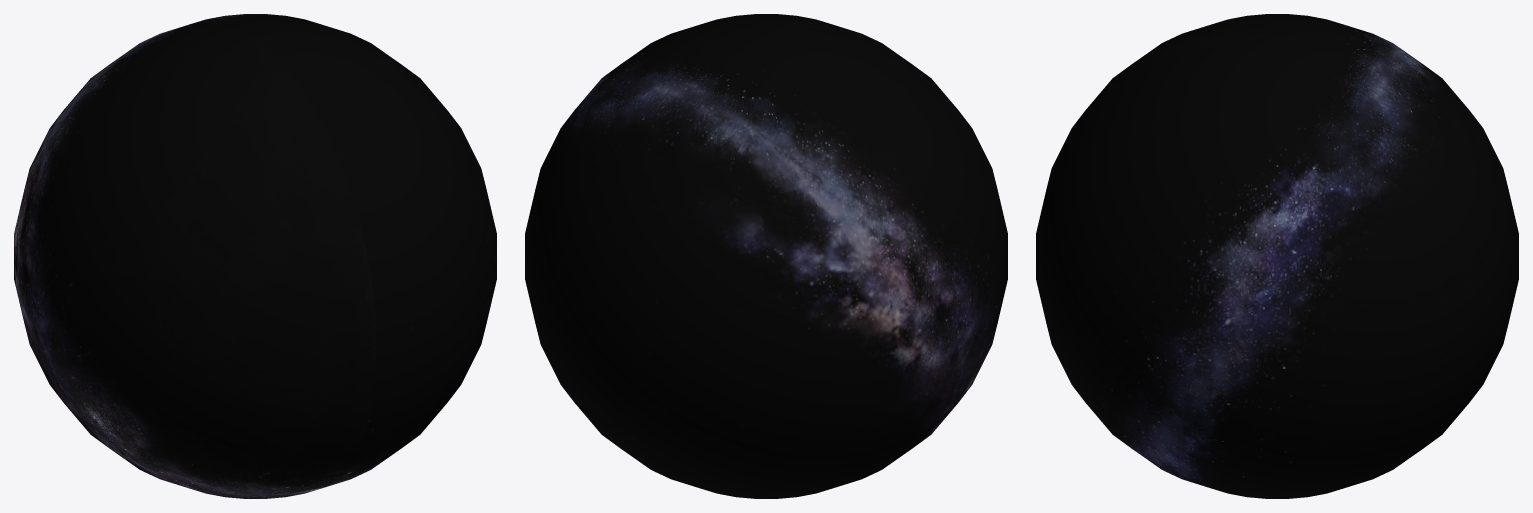
Rendered from r6_galaxy.fbx.
3 views of the same model, side by side, from view 1: azimuth 30°, elevation 25°; view 2: azimuth 150°, elevation 25°; view 3: azimuth 270°, elevation 25° (orthographic).
Visible parts, largest first — view 1: Sphere005; view 2: Sphere005; view 3: Sphere005.
Boxes of the visible parts, box(x1,y1,x2,y2) form: Sphere005: box(14, 14, 496, 498); Sphere005: box(525, 14, 1007, 498); Sphere005: box(1036, 14, 1518, 498).
Size of the model in its own units: 850090 by 859480 by 854772.
